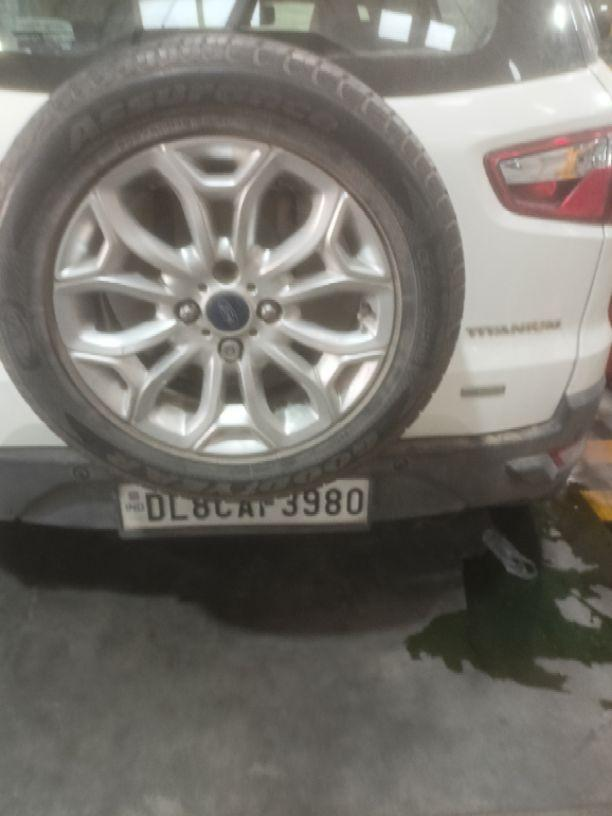license_plate: (115, 475, 373, 539)
